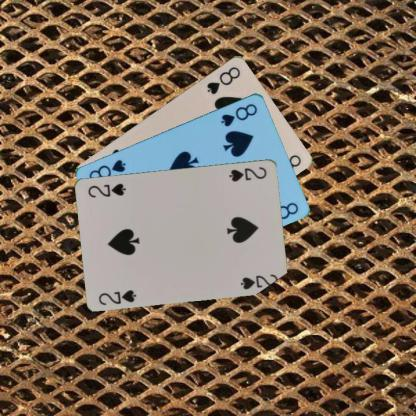2s: (96, 287, 138, 306), (227, 164, 268, 182)
8s: (204, 63, 241, 96), (218, 101, 259, 128)
